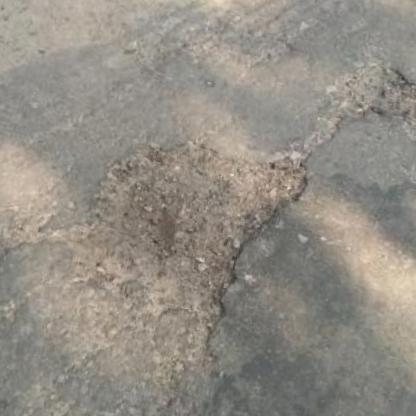pothole: (56, 107, 318, 351), (327, 44, 416, 148)
